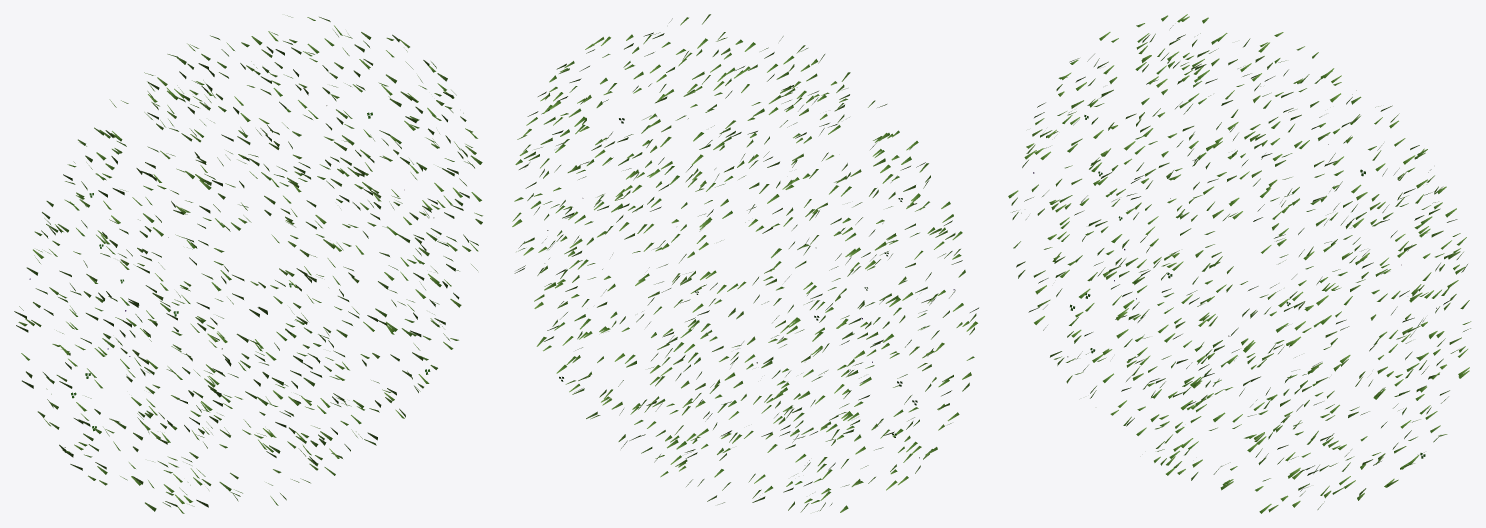
File: Grass_Tile_SheepMeadow.glb
3 renders of one model, left to right at view 1: azimuth 30°, elevation 25°; view 2: azimuth 150°, elevation 25°; view 3: azimuth 330°, elevation 25°, orthographic.
Visible parts, largest first — view 1: Grass_Tile_SheepMeadow; view 2: Grass_Tile_SheepMeadow; view 3: Grass_Tile_SheepMeadow.
Boxes of the visible parts, box(x1,y1,x2,y2) form: Grass_Tile_SheepMeadow: box(14, 15, 482, 513); Grass_Tile_SheepMeadow: box(512, 14, 978, 512); Grass_Tile_SheepMeadow: box(1008, 14, 1471, 513).
Bounding box in the file's own units: 1.97 × 1.98 × 0.0878.
